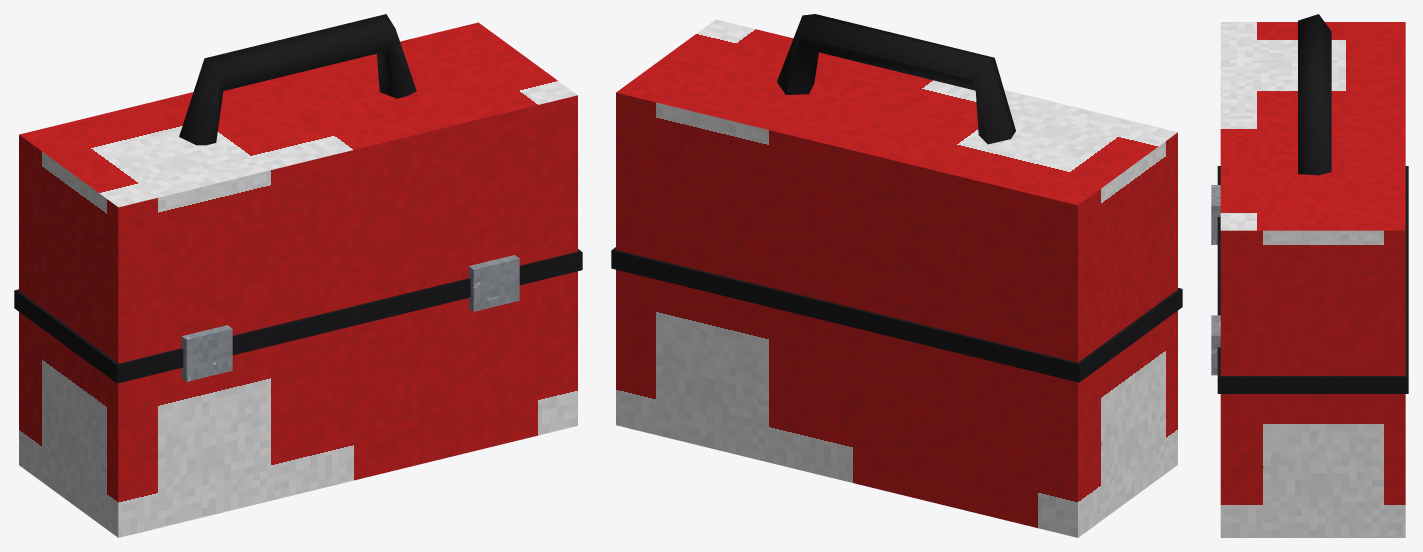
File: item_first_aid.glb
3 views of the same model, side by side, from view 1: azimuth 30°, elevation 25°; view 2: azimuth 150°, elevation 25°; view 3: azimuth 270°, elevation 25° (orthographic). The views are drawn at different scales.
Parts seen in each view (by area): view 1: item_first_aid; view 2: item_first_aid; view 3: item_first_aid.
Part boxes in pixels (x1,y1,x2,y2): item_first_aid: (14, 14, 582, 537); item_first_aid: (611, 14, 1182, 537); item_first_aid: (1211, 14, 1408, 537).
Bounding box in the file's own units: 0.162 × 0.1355 × 0.064.
Materials: 3 (3 with a texture image).
